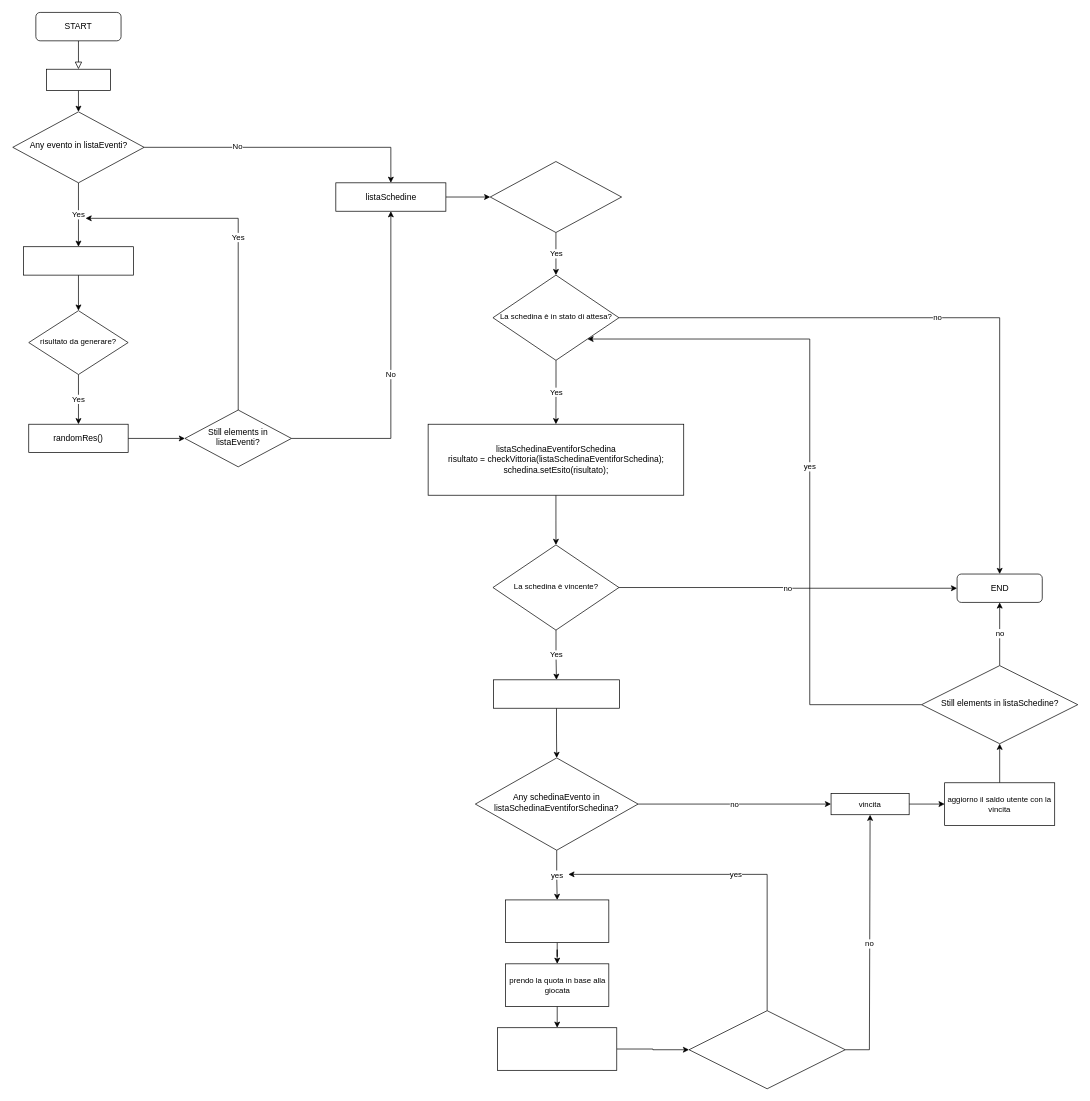
This 1090x1101 diagram has some shape labels left out. The centre of each missing label's shape, as x and y in pixels:
Any schedina in listaSchedine?: (556,197)
evento quota quotaGiocata: (557,921)
listaEventi: (78,80)
quotaVincita *= quotaGiocata: (557,1048)
res = evento.getRisultato(): (78,260)
Still elements in listaSchedinaEventiforSchedina?: (766,1049)
Utente quotaVincita = 0: (556,693)
